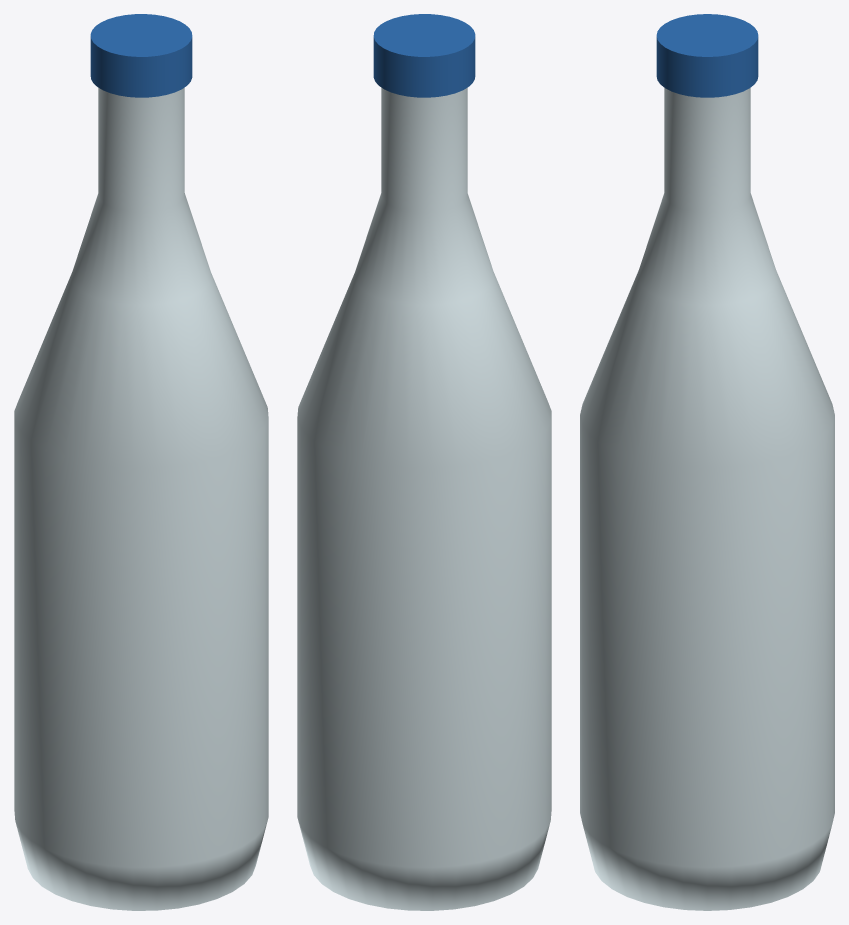
Rendered from garrafa-1-card.glb.
3 renders of one model, left to right at view 1: azimuth 30°, elevation 25°; view 2: azimuth 150°, elevation 25°; view 3: azimuth 270°, elevation 25°, orthographic.
Size of the model in its own units: 0.068 by 0.2436 by 0.068.
